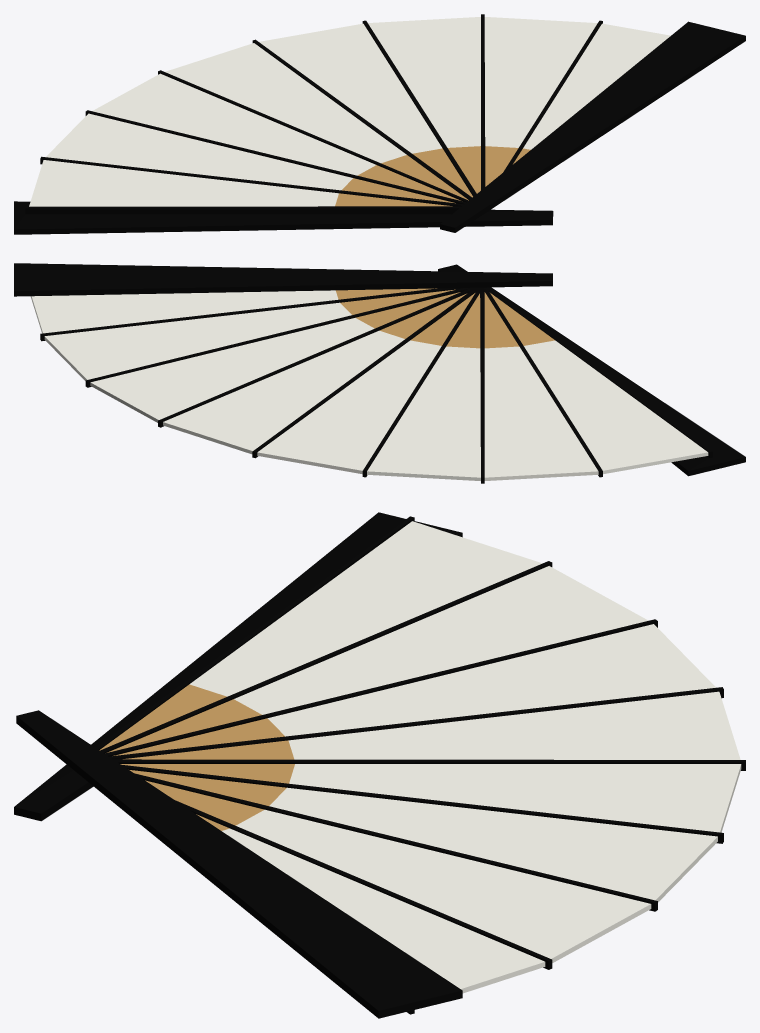
The model's file is Fan Open - Textured Low Poly Asian Weapon Pack by Kickin It Studios.fbx.
3 renders of one model, top to bottom at view 1: azimuth 30°, elevation 25°; view 2: azimuth 150°, elevation 25°; view 3: azimuth 270°, elevation 25°, orthographic. The views are drawn at different scales.
Parts seen in each view (by area): view 1: Fan Open; view 2: Fan Open; view 3: Fan Open.
Boxes of the visible parts, x1=… form: Fan Open: x1=14, y1=14, x2=745, y2=234; Fan Open: x1=14, y1=263, x2=745, y2=483; Fan Open: x1=14, y1=512, x2=745, y2=1018.
Bounding box in the file's own units: 471 × 12.58 × 279.
